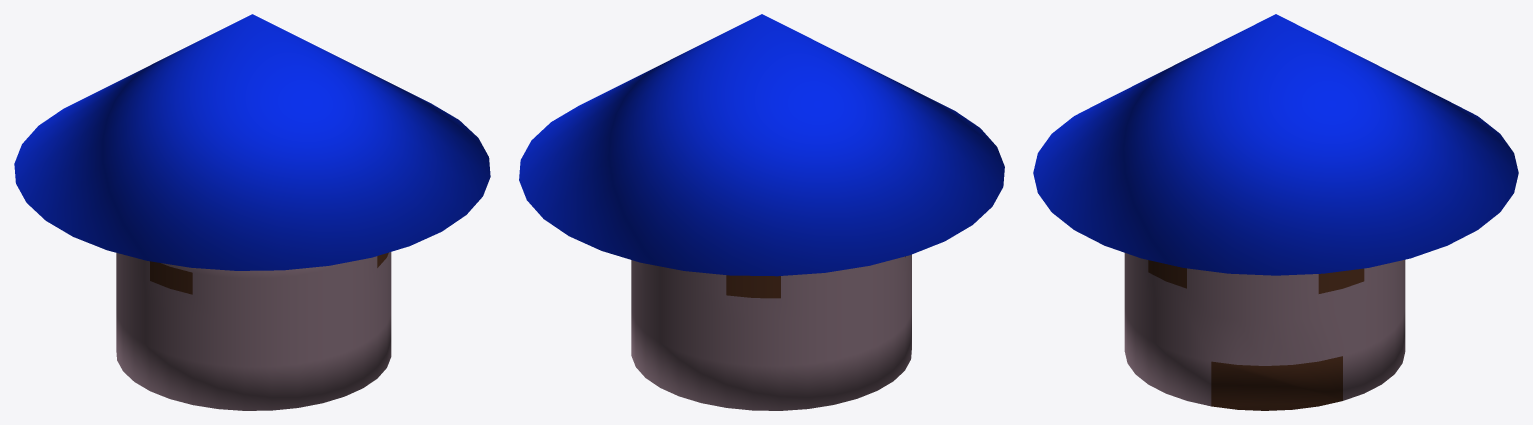
File: towerblue.fbx
The picture shows the model from 3 angles, left to right: view 1: azimuth 30°, elevation 25°; view 2: azimuth 150°, elevation 25°; view 3: azimuth 270°, elevation 25°; orthographic projection. The views are drawn at different scales.
Visible parts, largest first — view 1: TowerBlue; view 2: TowerBlue; view 3: TowerBlue.
Boxes of the visible parts, <box> form: TowerBlue: <box>14,14,490,410</box>; TowerBlue: <box>519,14,1004,410</box>; TowerBlue: <box>1033,14,1518,410</box>.
Size of the model in its own units: 220 by 220 by 170.
